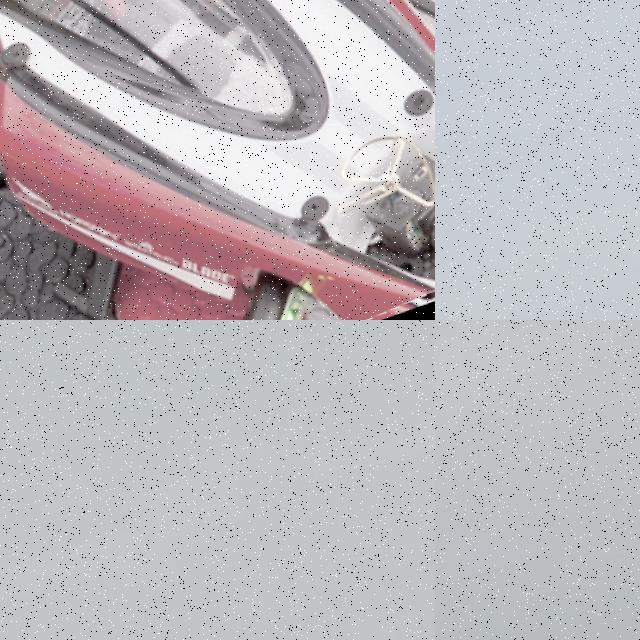drone: (0, 0, 435, 320)
